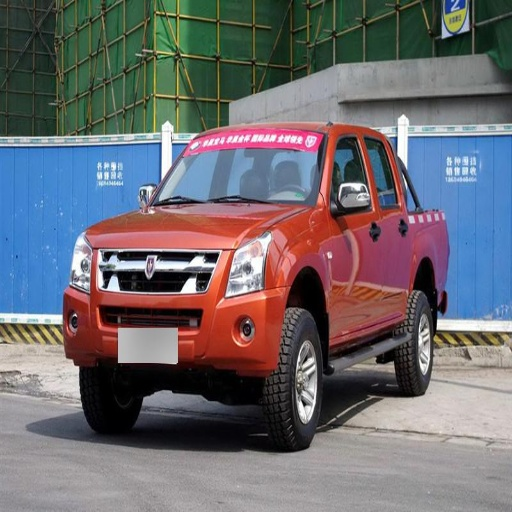front_bumper: (65, 246, 288, 377)
front_glass: (149, 135, 324, 205)
front_left_door: (326, 133, 386, 343)
trunk: (413, 210, 447, 272)
